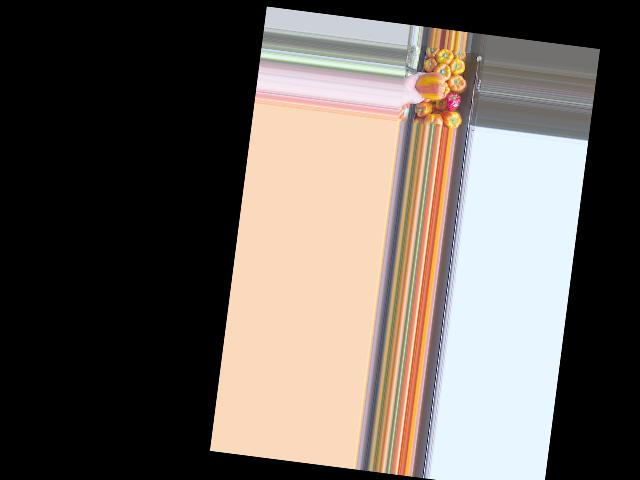bell_pepper: (416, 99, 433, 119)
